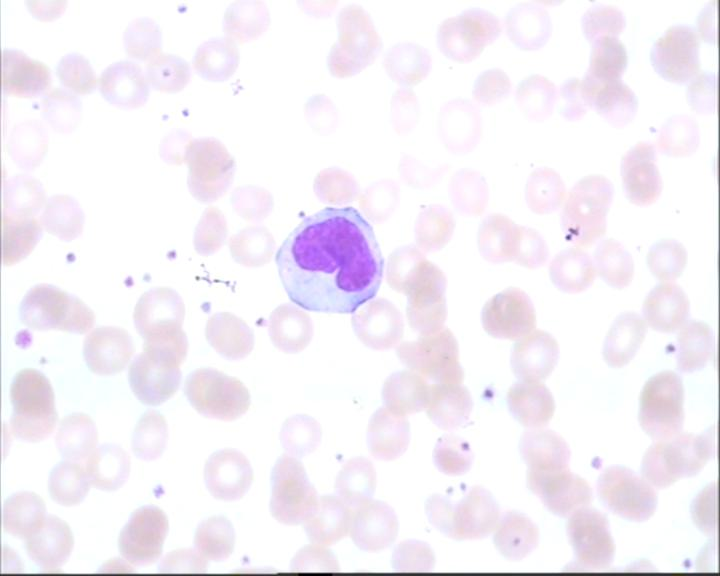mono: (270, 203, 385, 316)
